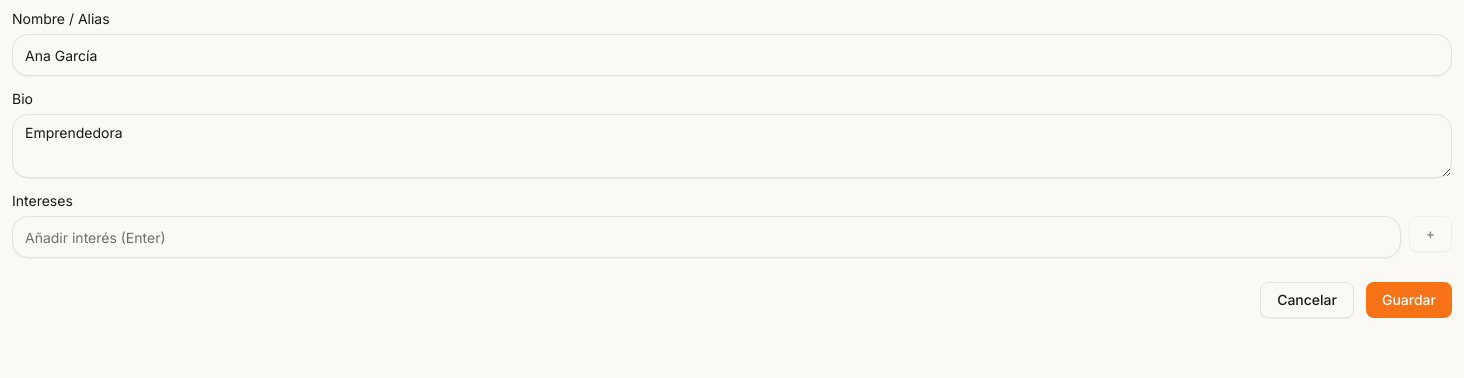
it: ProfileForm — gestión de intereses › añade un nuevo interés al hacer clic en el botón "+"
This screenshot has width=1464, height=378.
Type "Blockchain" into the field with placeholder "Añadir interés (Enter)".
click(706, 237); type("Blockchain")  # box 12,216 -> 1401,258
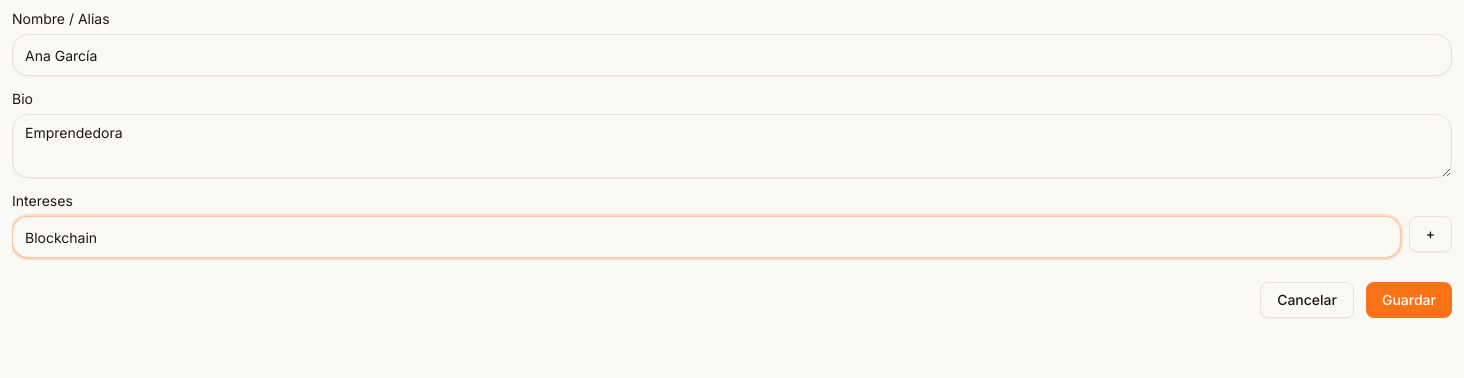
Click the button "+".
click(1430, 234)  # box 1409,216 -> 1452,252
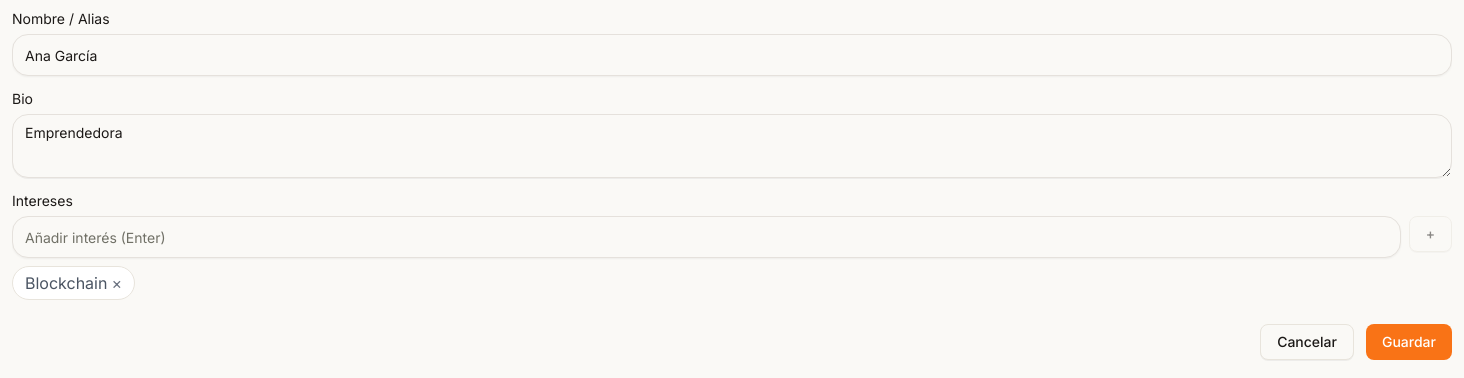
Check: the text "Blockchain" is shown, box 25,273 -> 107,293
